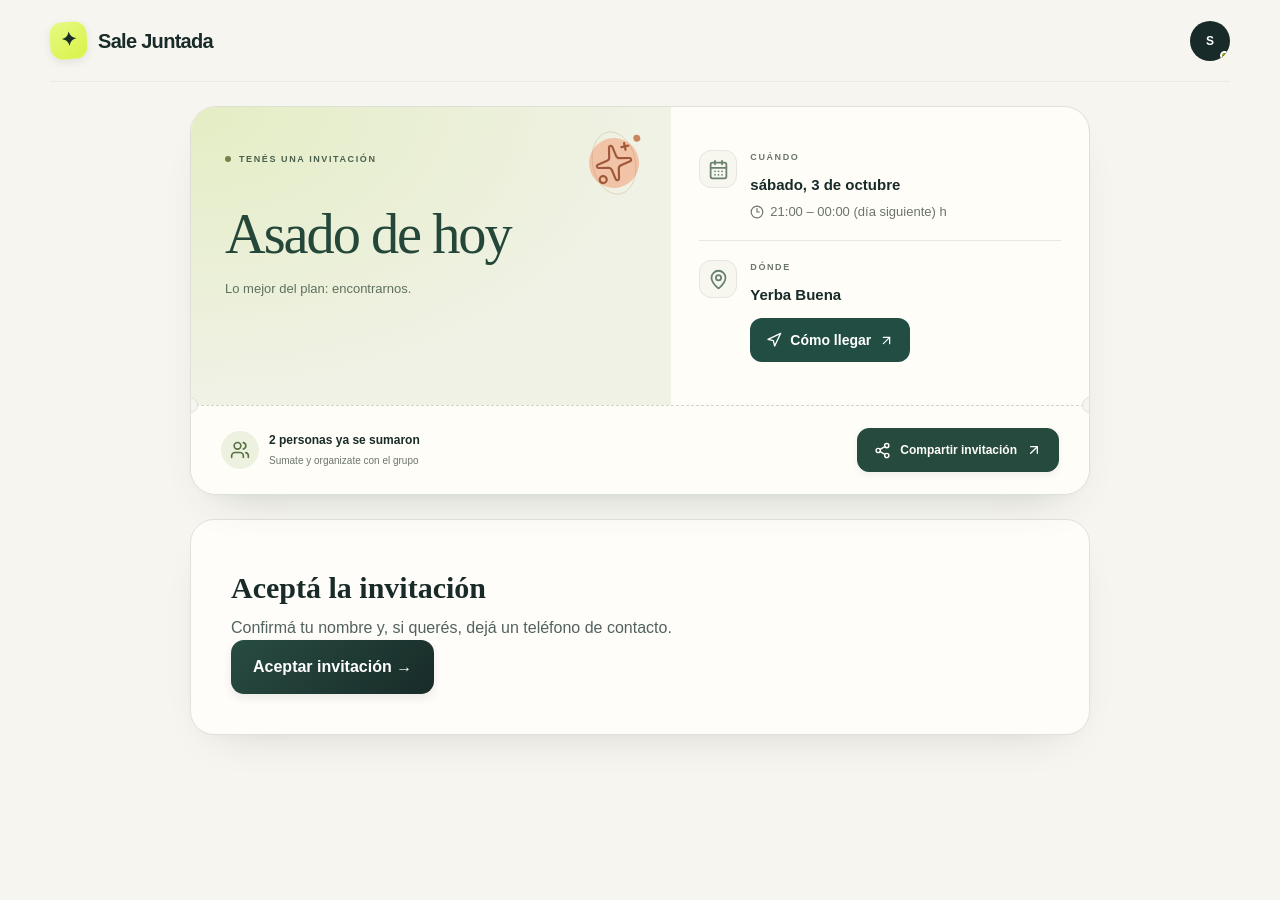
invitación y asistencia en vivo › muestra el contexto antes de pedir el nombre, sin identidades ni respuestas públicas
Expected: the heading "Asado de hoy" is shown, [225, 203, 511, 265]
Expected: the text "Yerba Buena" is shown, [750, 286, 841, 303]
Click the button "Aceptar invitación →": (333, 667) [231, 640, 434, 694]
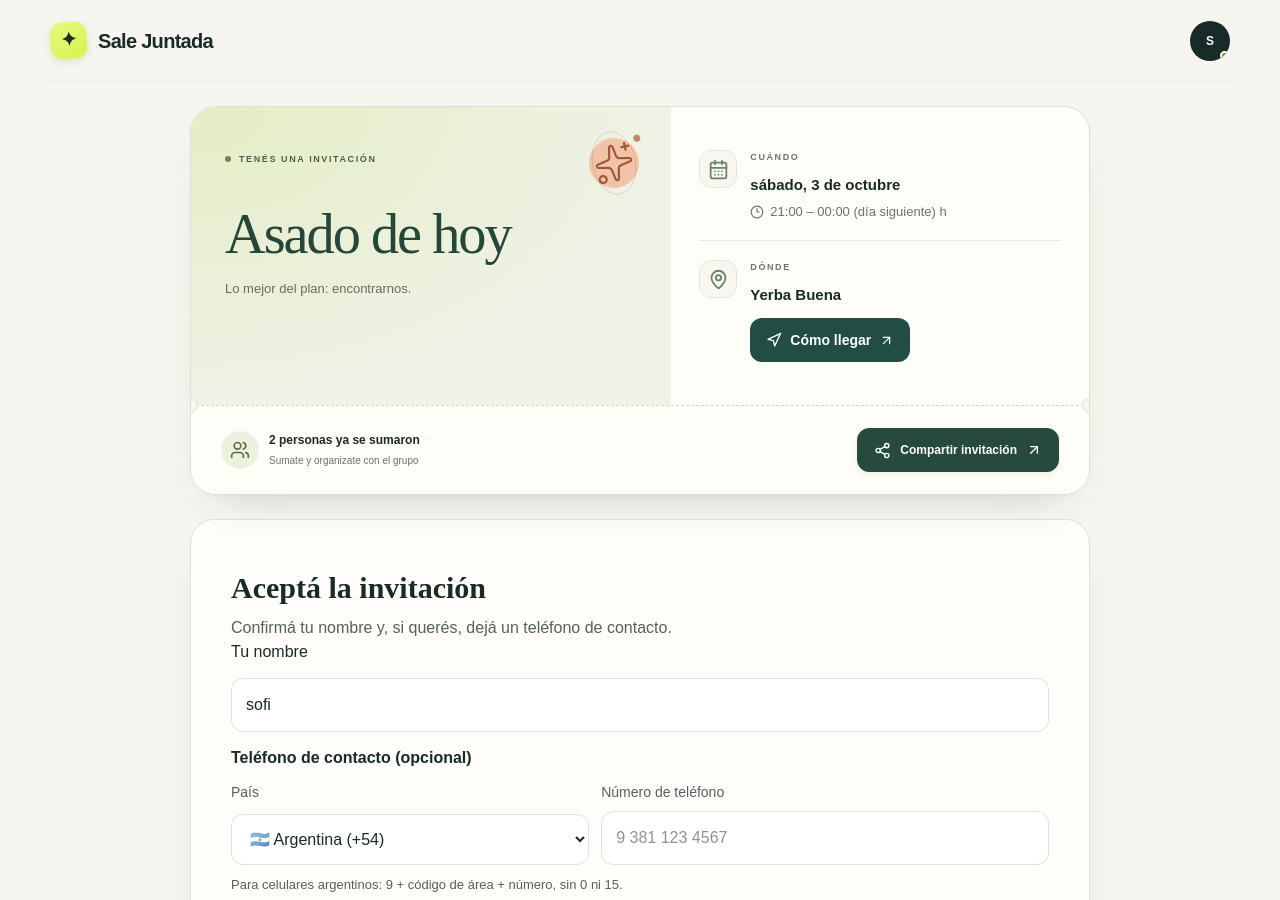
Expected: the field labelled "Tu nombre" is shown, [231, 678, 1049, 732]
